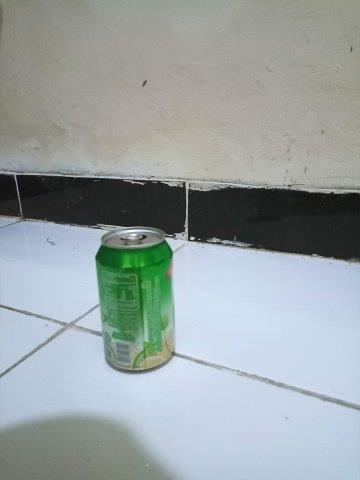kaleng: (96, 226, 176, 374)
